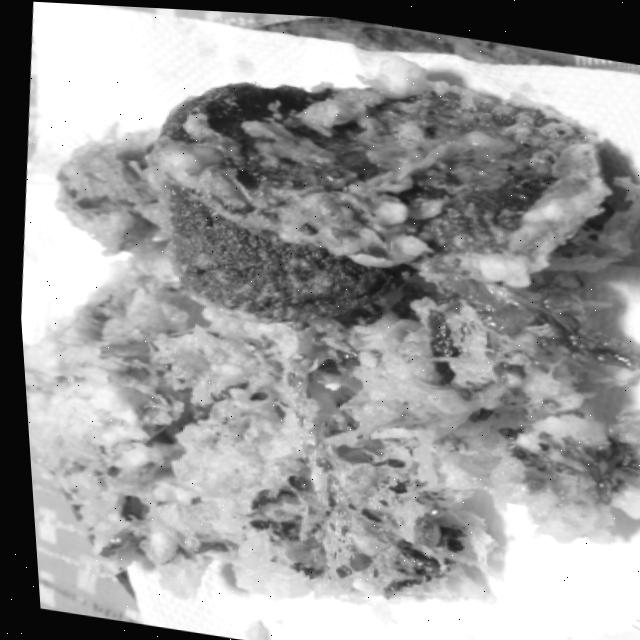蔬菜料理: (0, 8, 640, 640)
